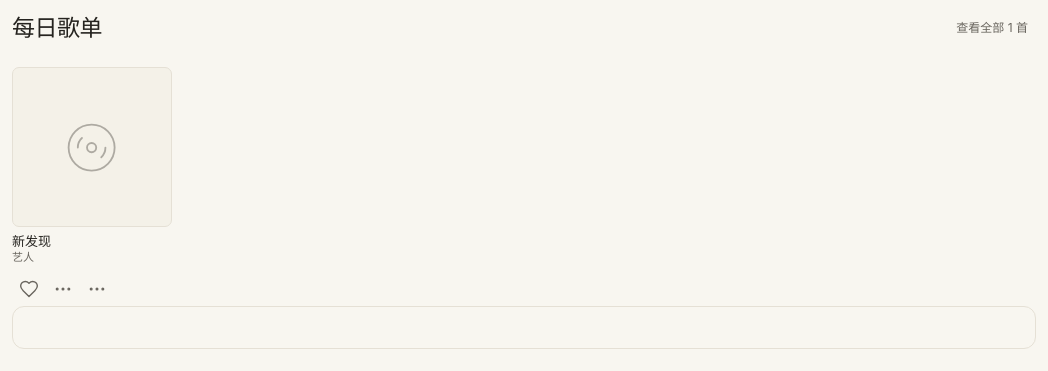
Test: 收藏后静默等候，结果不抢焦点，取消收藏丢弃迟到的结果
Later steps or results of the test are not shown.
What coordinates should you click on to do the following:
click the button named "喜欢 当前歌曲"
I would click on:
 (29, 289)
Its box is [12,272,46,306].
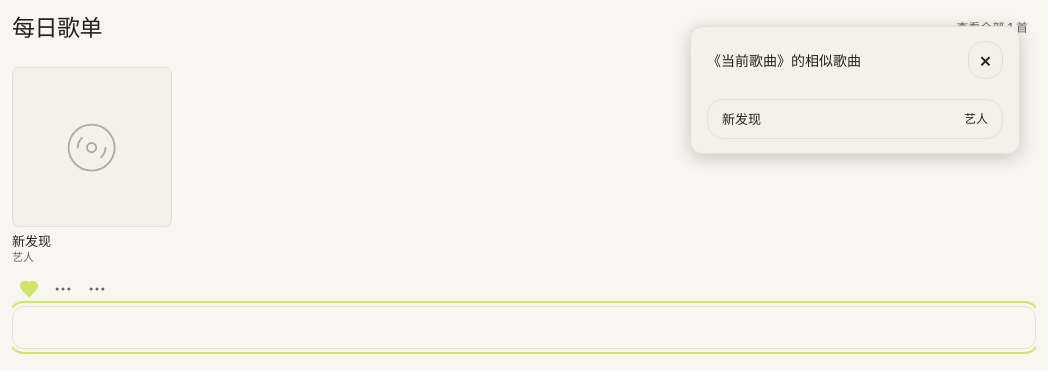
Check: the element showing "《当前歌曲》的相似歌曲 × 新发现 艺人" is shown, box [690,26,1020,154]
